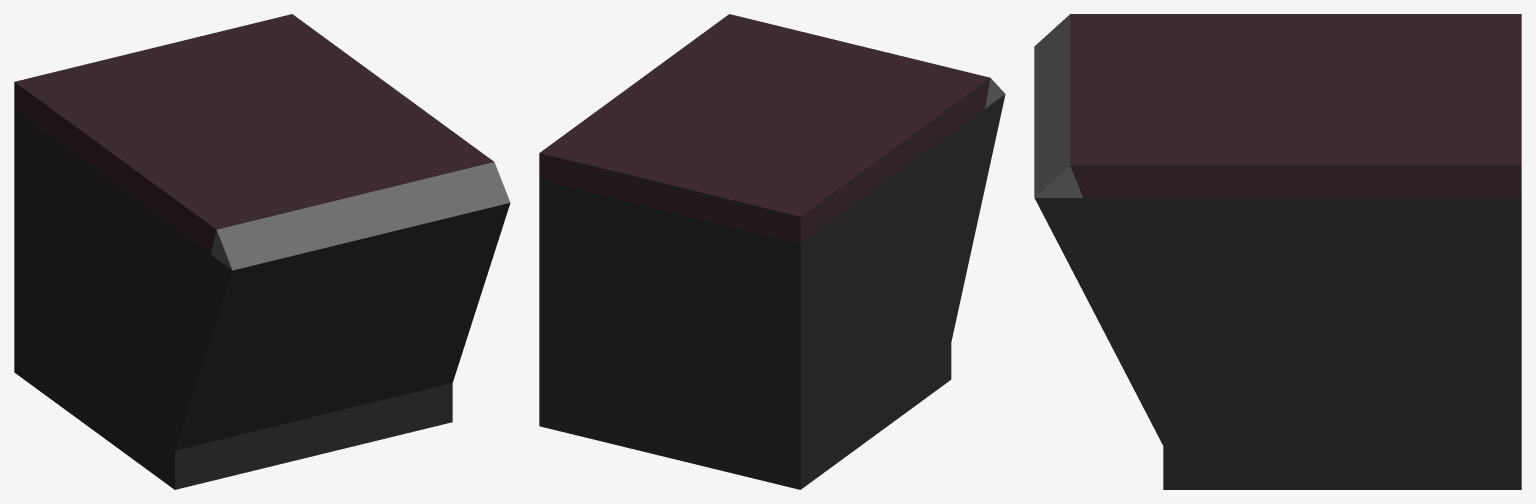
The model's file is Stage Block Edge.fbx.
3 renders of one model, left to right at view 1: azimuth 30°, elevation 25°; view 2: azimuth 150°, elevation 25°; view 3: azimuth 270°, elevation 25°, orthographic. The views are drawn at different scales.
Parts seen in each view (by area): view 1: Stage Block Edge; view 2: Stage Block Edge; view 3: Stage Block Edge.
Boxes of the visible parts, box(x1,y1,x2,y2) form: Stage Block Edge: box(14, 14, 510, 489); Stage Block Edge: box(539, 14, 1005, 489); Stage Block Edge: box(1034, 14, 1521, 489).
Bounding box in the file's own units: 1000 × 1000 × 1360.
